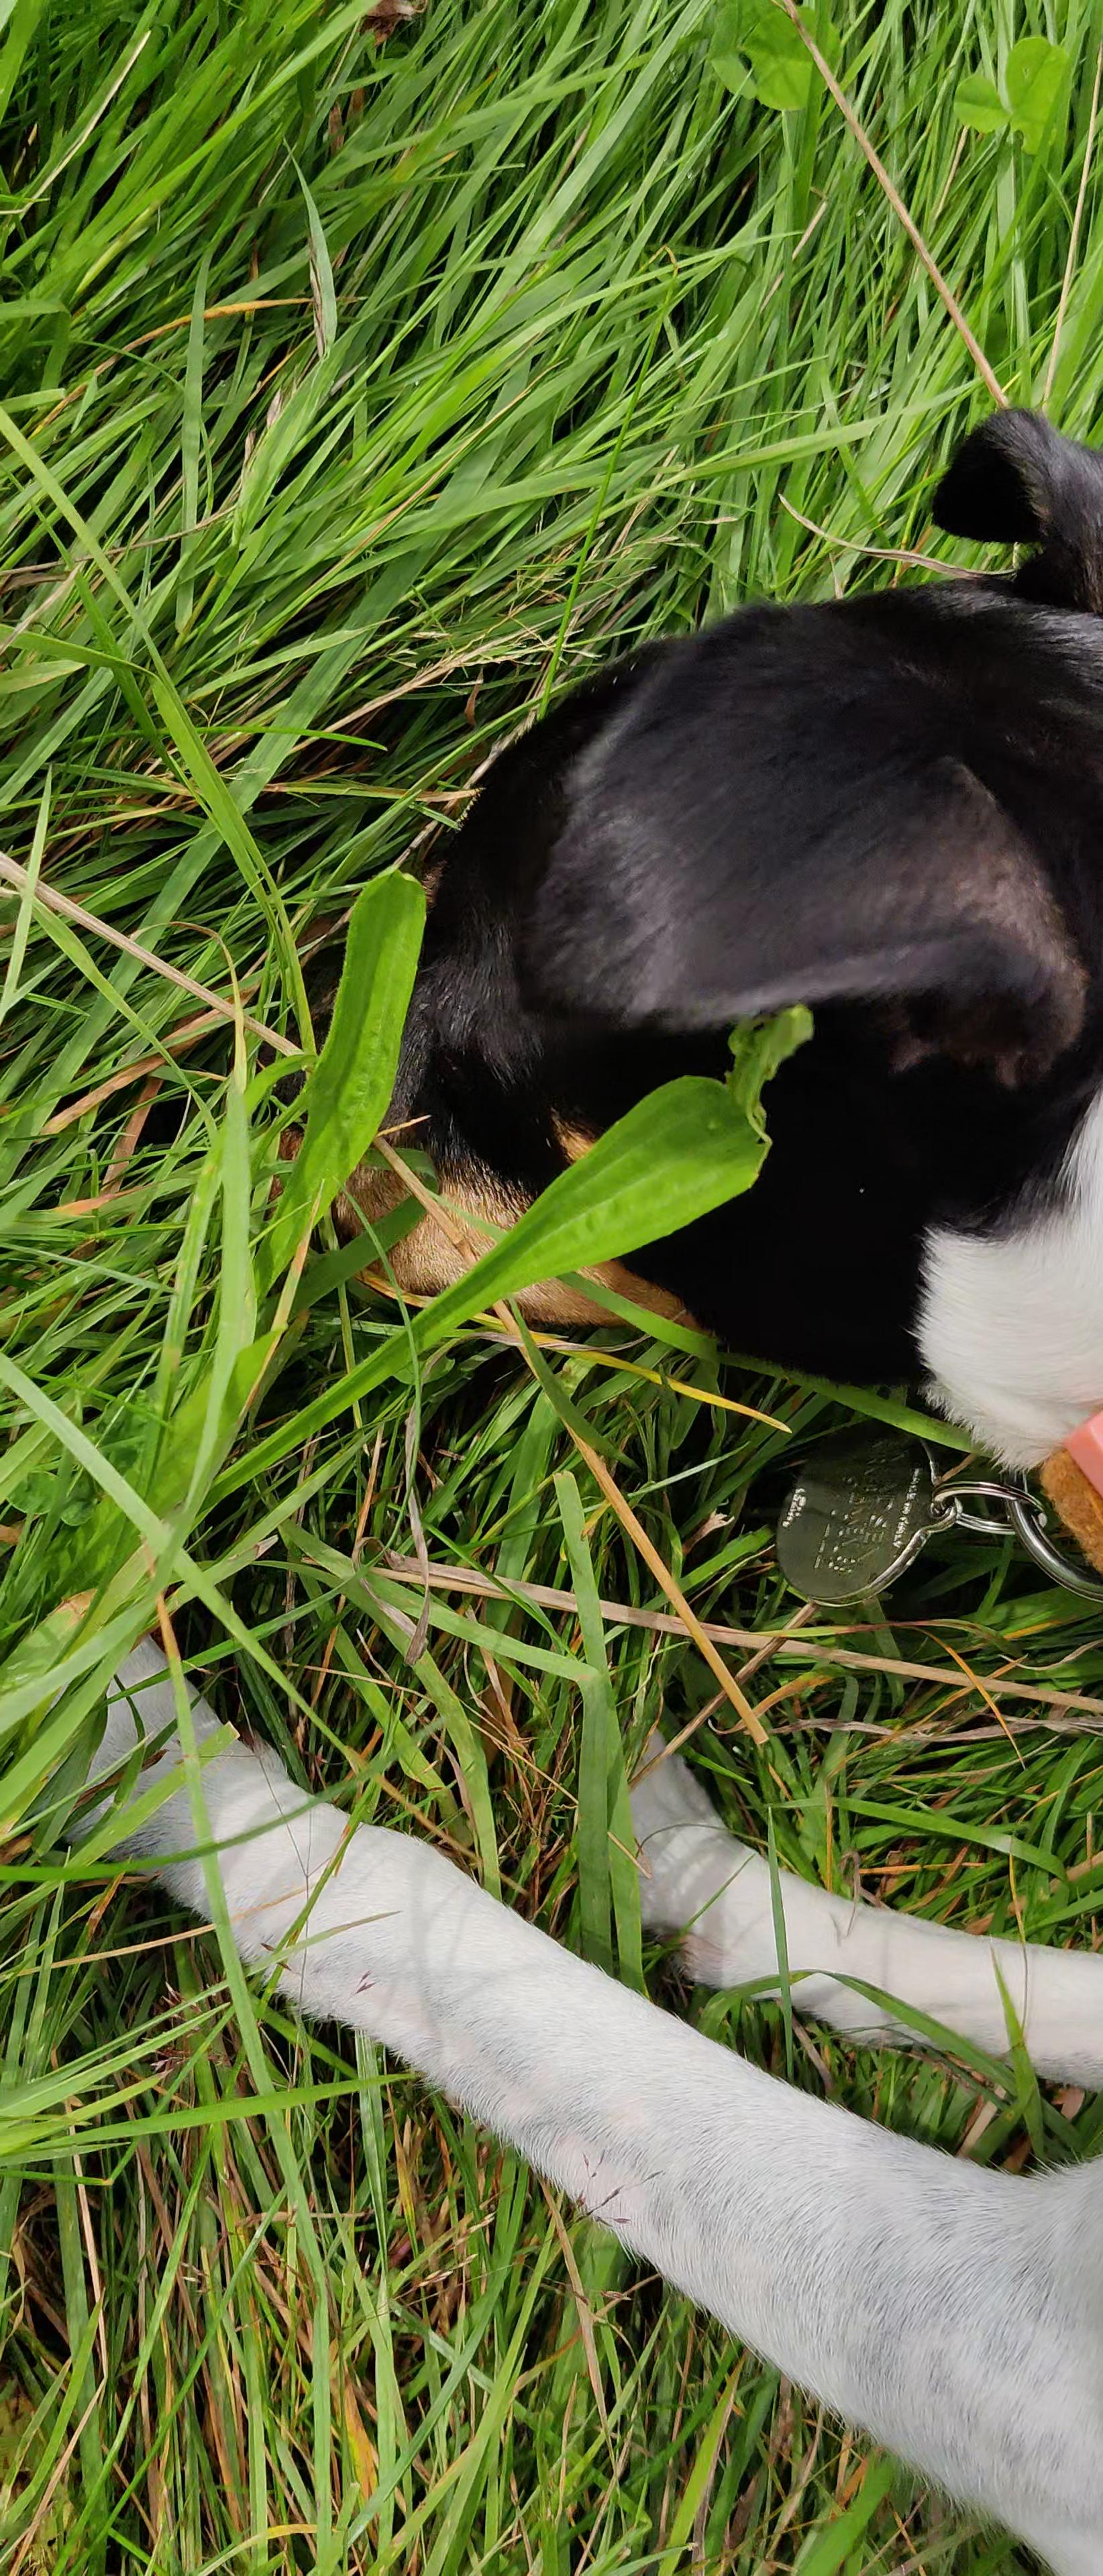Dog: (51, 361, 1103, 2576)
